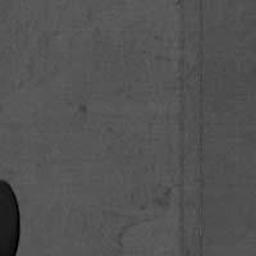Punching: (0, 179, 20, 256)
